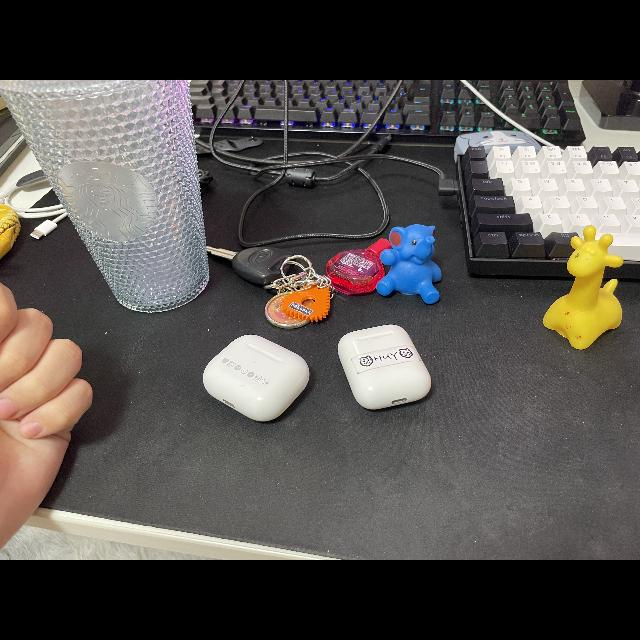airpod2: (334, 323, 436, 413)
airpod3: (197, 328, 313, 427)
